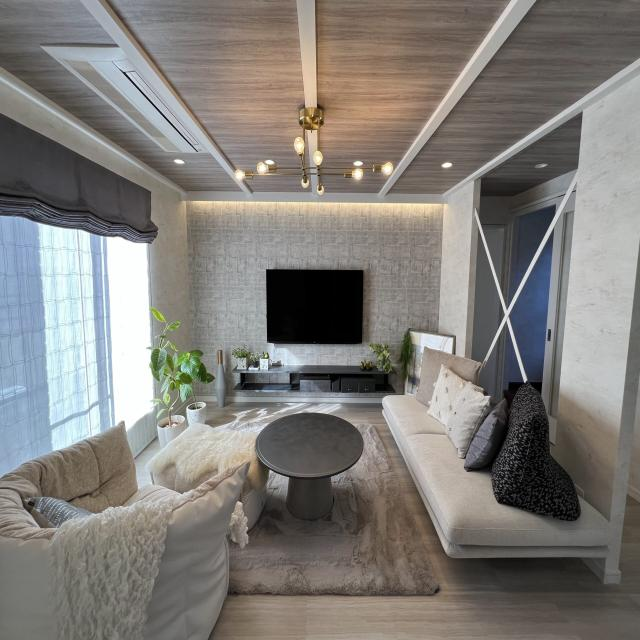white sofa: (0, 424, 263, 636)
